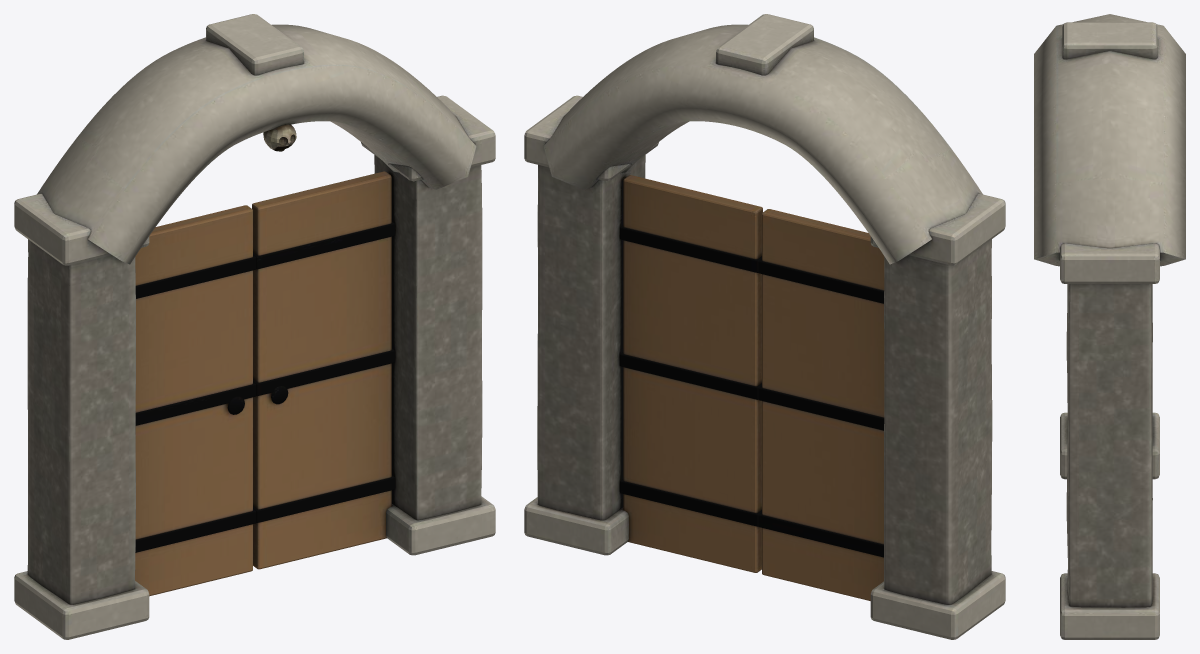
File: dg_portao_chefe.glb
3 renders of one model, left to right at view 1: azimuth 30°, elevation 25°; view 2: azimuth 150°, elevation 25°; view 3: azimuth 270°, elevation 25°, orthographic. The views are drawn at different scales.
Parts seen in each view (by area): view 1: dg_portao_chefe_tronco; view 2: dg_portao_chefe_tronco; view 3: dg_portao_chefe_tronco.
Boxes of the visible parts, left/top/right/bottom form: dg_portao_chefe_tronco: left=14, top=14, right=495, bottom=639; dg_portao_chefe_tronco: left=524, top=14, right=1005, bottom=639; dg_portao_chefe_tronco: left=1034, top=14, right=1185, bottom=639.
Size of the model in its own units: 5 by 5.91 by 1.6.
Materials: 8 (1 with a texture image).
